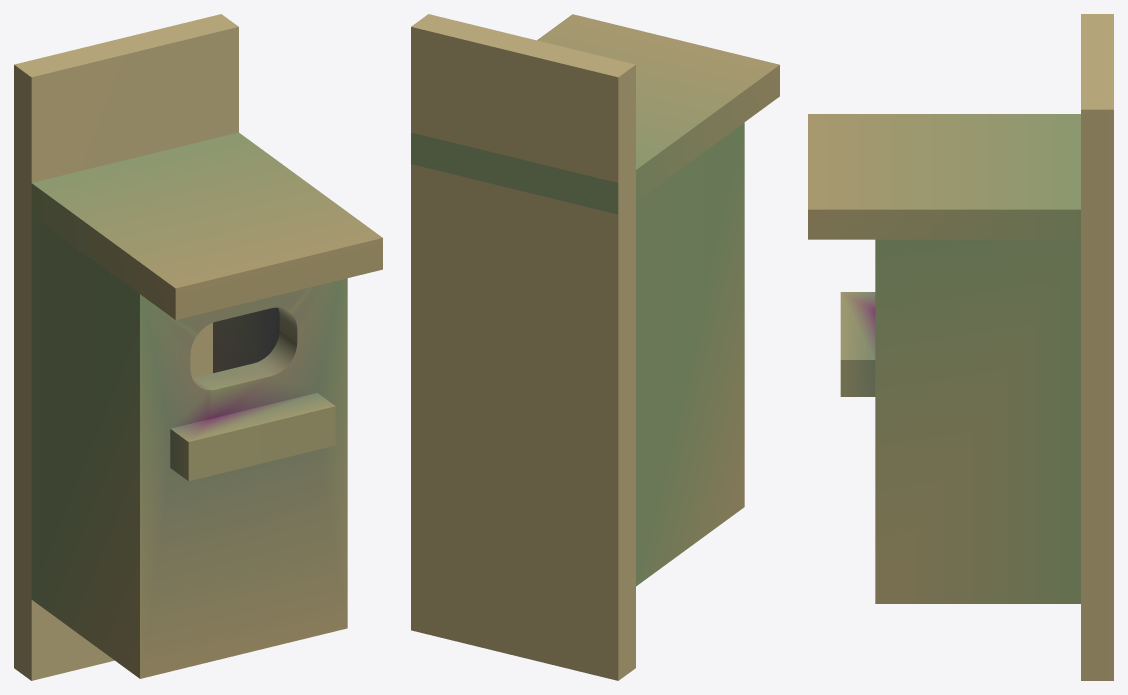
The picture shows the model from 3 angles, left to right: view 1: azimuth 30°, elevation 25°; view 2: azimuth 150°, elevation 25°; view 3: azimuth 270°, elevation 25°; orthographic projection. The views are drawn at different scales.
Parts seen in each view (by area): view 1: carcass, board, top; view 2: board, carcass, top; view 3: carcass, top, board.
Boxes of the visible parts, x1=… form: carcass: x1=31, y1=215, x2=347, y2=678; board: x1=14, y1=14, x2=238, y2=680; top: x1=31, y1=132, x2=382, y2=319; board: x1=411, y1=14, x2=635, y2=680; carcass: x1=636, y1=122, x2=744, y2=586; top: x1=411, y1=14, x2=779, y2=214; carcass: x1=840, y1=239, x2=1080, y2=603; top: x1=808, y1=114, x2=1080, y2=239; board: x1=1081, y1=14, x2=1113, y2=680.
Size of the model in its own units: 0.1438 by 0.4 by 0.1941.
